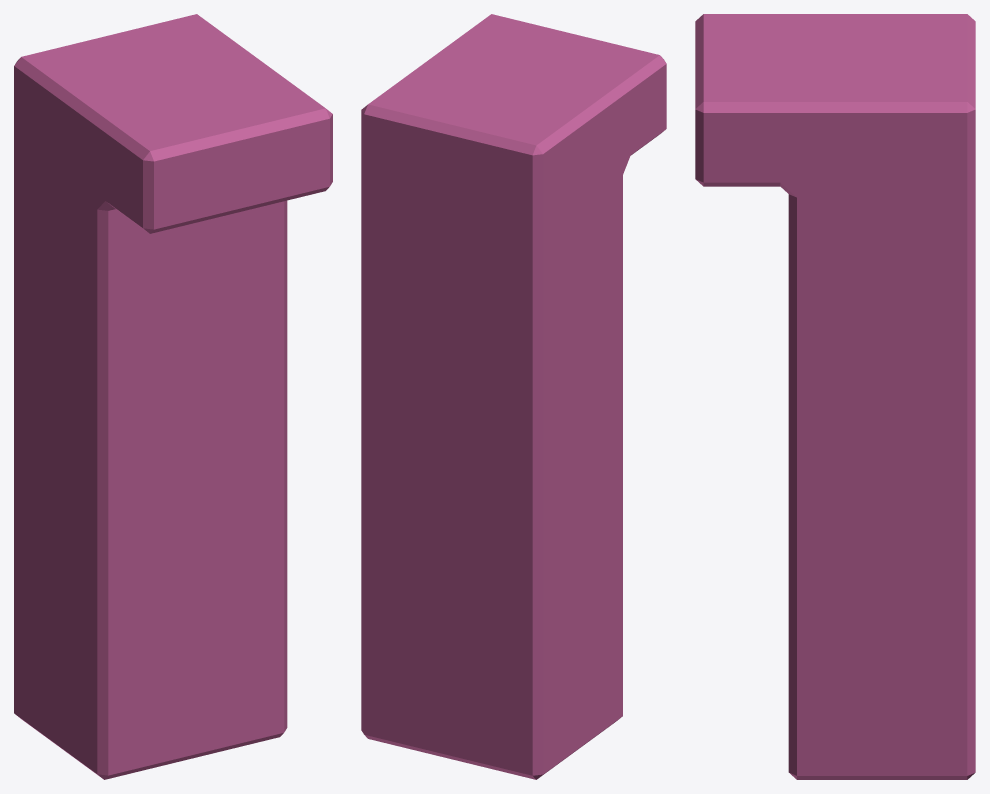
The model's file is Side_Decor_2.fbx.
The picture shows the model from 3 angles, left to right: view 1: azimuth 30°, elevation 25°; view 2: azimuth 150°, elevation 25°; view 3: azimuth 270°, elevation 25°; orthographic projection. The views are drawn at different scales.
Visible parts, largest first — view 1: Side_Decor_2; view 2: Side_Decor_2; view 3: Side_Decor_2.
Part boxes in pixels (x1,y1,x2,y2): Side_Decor_2: (14,14,332,779); Side_Decor_2: (361,14,666,779); Side_Decor_2: (695,14,975,779).
Bounding box in the file's own units: 6.75 × 22.5 × 8.44.
